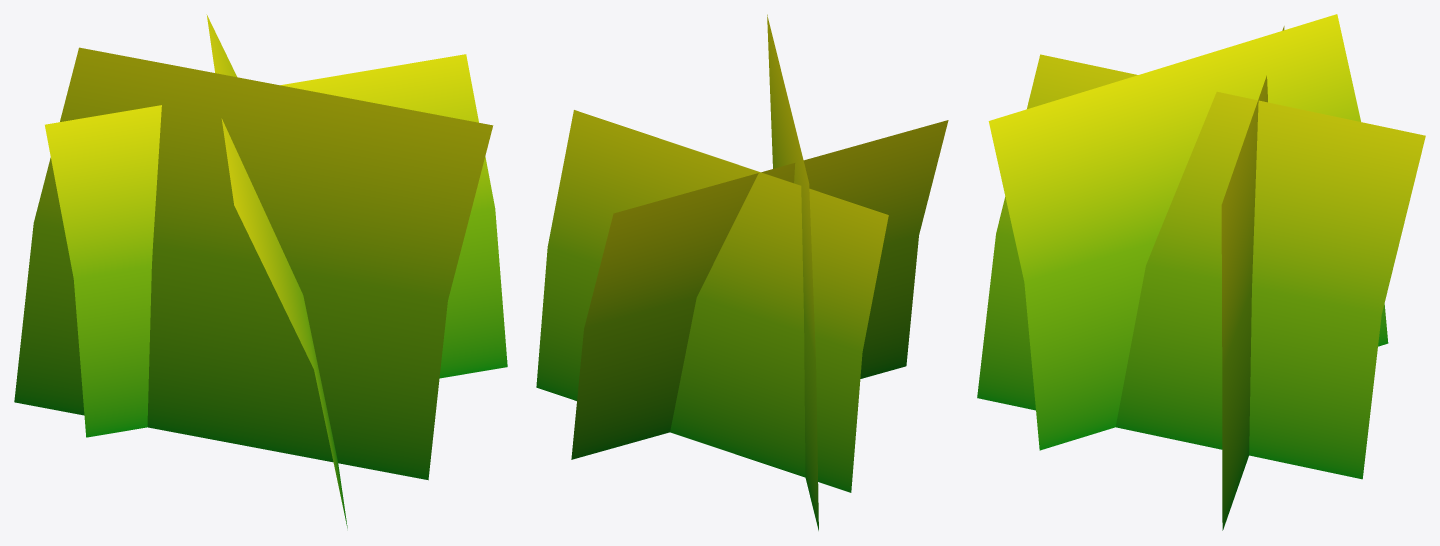
Rendered from SM_Grass_Clump_A.fbx.
3 views of the same model, side by side, from view 1: azimuth 30°, elevation 25°; view 2: azimuth 150°, elevation 25°; view 3: azimuth 270°, elevation 25° (orthographic). The views are drawn at different scales.
Visible parts, largest first — view 1: SM_Grass_Clump_A; view 2: SM_Grass_Clump_A; view 3: SM_Grass_Clump_A.
Boxes of the visible parts, x1=… form: SM_Grass_Clump_A: x1=14, y1=14, x2=507, y2=528; SM_Grass_Clump_A: x1=536, y1=14, x2=948, y2=530; SM_Grass_Clump_A: x1=977, y1=14, x2=1425, y2=530.
Bounding box in the file's own units: 60.29 × 57.27 × 48.88.
